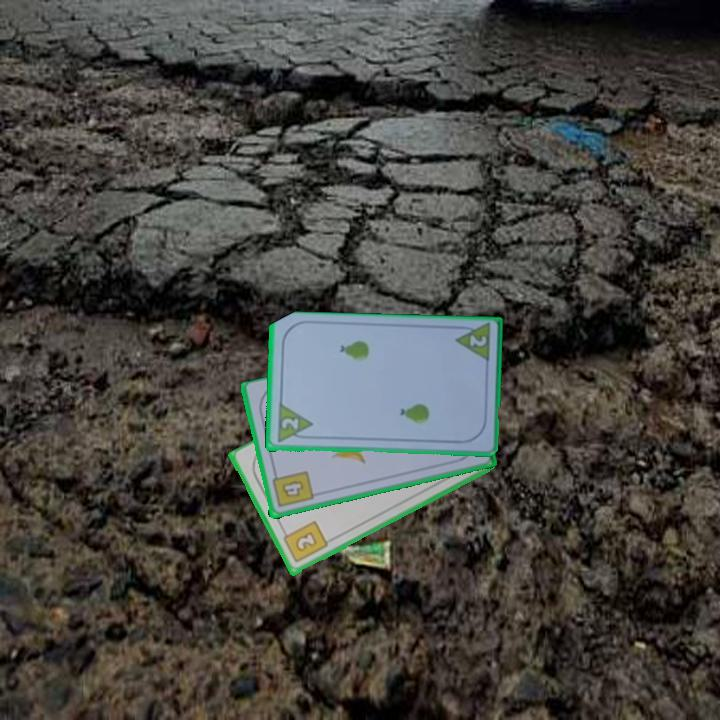2b: (278, 518, 330, 566)
2p: (452, 321, 493, 366), (277, 415, 301, 433)
4b: (268, 468, 316, 510)
